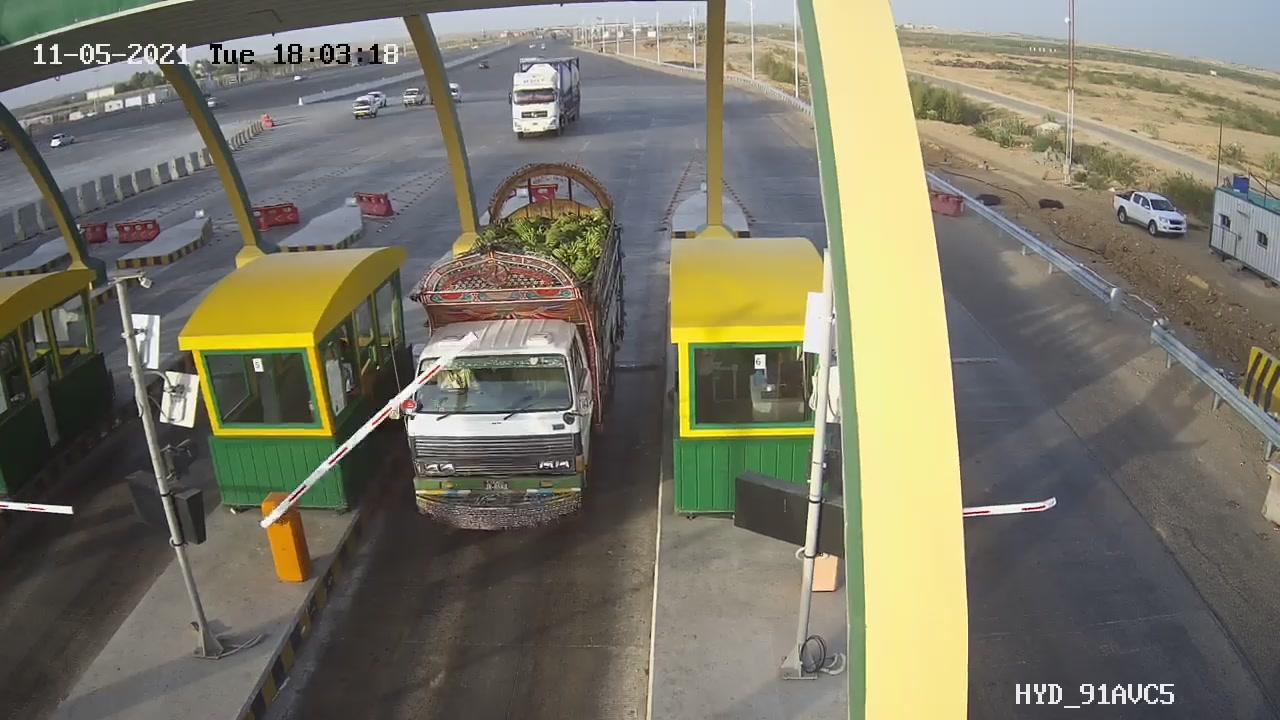F5: (373, 151, 643, 555)
